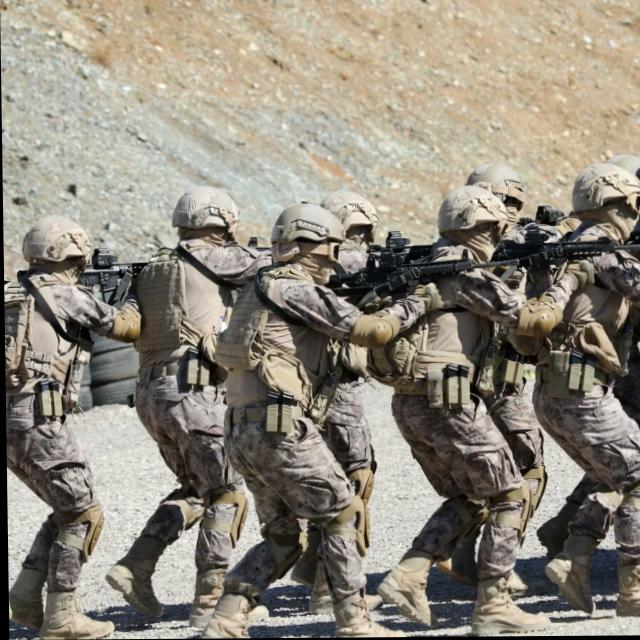poh_personel: (196, 203, 448, 639), (371, 185, 597, 638), (98, 187, 280, 626), (3, 215, 145, 639), (529, 162, 640, 618)
